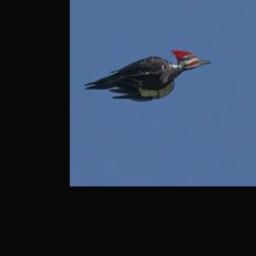Woodpecker: (84, 49, 211, 101)
